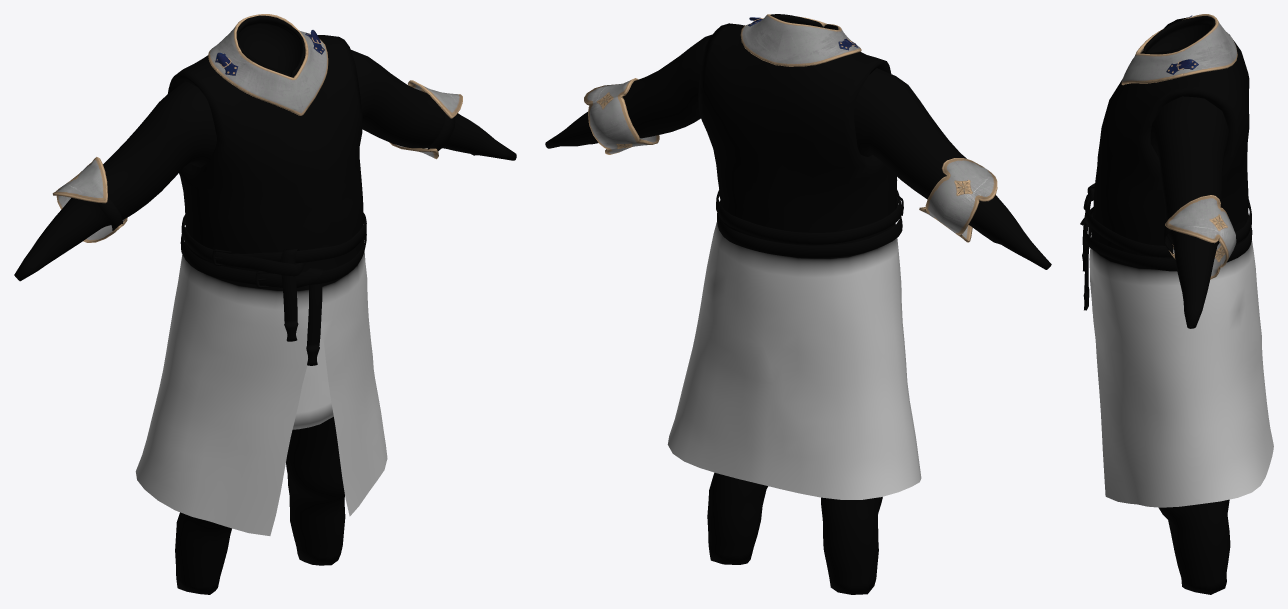
The model's file is swan_knight_armor_tabard2_t3_slim.fbx.
3 renders of one model, left to right at view 1: azimuth 30°, elevation 25°; view 2: azimuth 150°, elevation 25°; view 3: azimuth 270°, elevation 25°, orthographic. The views are drawn at different scales.
Visible parts, largest first — view 1: swan_knight_armor_tabard2_t3_slim.0, swan_knight_armor_tabard2_t3_slim.1; view 2: swan_knight_armor_tabard2_t3_slim.0, swan_knight_armor_tabard2_t3_slim.1; view 3: swan_knight_armor_tabard2_t3_slim.0, swan_knight_armor_tabard2_t3_slim.1.
Part boxes in pixels (x1=…): swan_knight_armor_tabard2_t3_slim.0: x1=14, y1=15, x2=516, y2=594; swan_knight_armor_tabard2_t3_slim.1: x1=52, y1=14, x2=462, y2=242; swan_knight_armor_tabard2_t3_slim.0: x1=545, y1=14, x2=1051, y2=594; swan_knight_armor_tabard2_t3_slim.1: x1=584, y1=14, x2=997, y2=242; swan_knight_armor_tabard2_t3_slim.0: x1=1080, y1=16, x2=1273, y2=594; swan_knight_armor_tabard2_t3_slim.1: x1=1121, y1=14, x2=1237, y2=279.
Bounding box in the file's own units: 1.3 × 0.4478 × 1.37.
